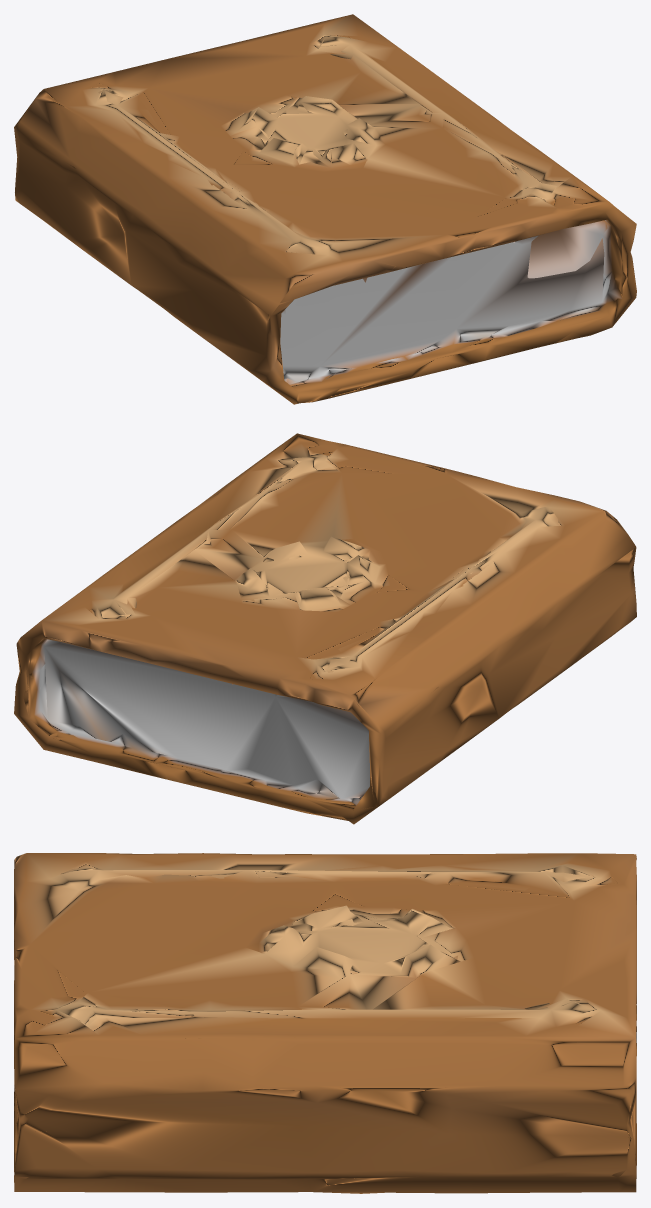
File: gen3d-spellbook-lod0.glb
The picture shows the model from 3 angles, top to bottom: view 1: azimuth 30°, elevation 25°; view 2: azimuth 150°, elevation 25°; view 3: azimuth 270°, elevation 25°; orthographic projection. The views are drawn at different scales.
Parts seen in each view (by area): view 1: part_0; view 2: part_0; view 3: part_0.
Boxes of the visible parts, left/top/right/bottom form: part_0: left=14, top=14, right=636, bottom=404; part_0: left=14, top=433, right=636, bottom=824; part_0: left=14, top=853, right=636, bottom=1193.
Bounding box in the file's own units: 2.51 × 0.9985 × 3.03.
